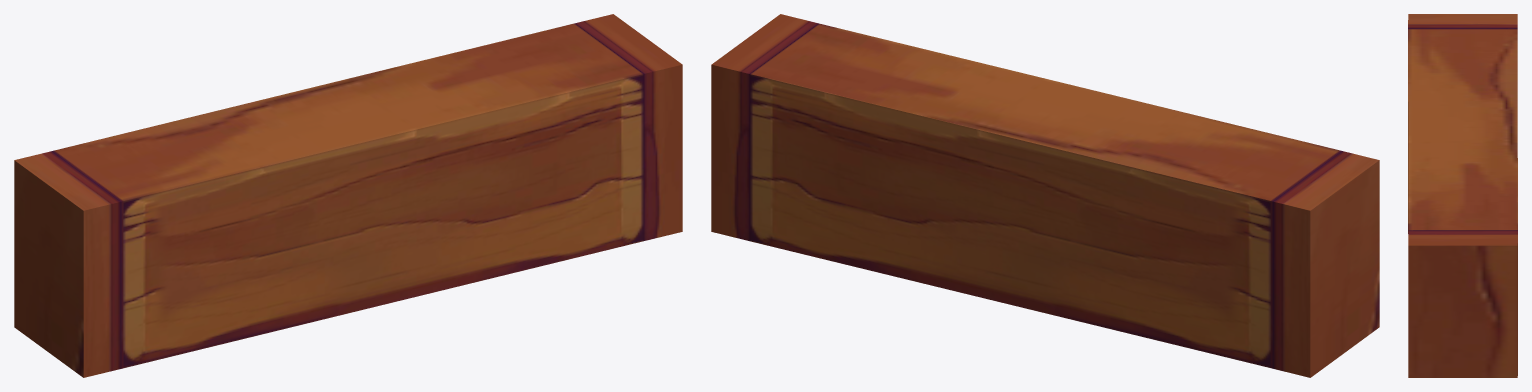
The model's file is fence_wood_02.fbx.
3 views of the same model, side by side, from view 1: azimuth 30°, elevation 25°; view 2: azimuth 150°, elevation 25°; view 3: azimuth 270°, elevation 25° (orthographic). The views are drawn at different scales.
Visible parts, largest first — view 1: fence_wood_02; view 2: fence_wood_02; view 3: fence_wood_02.
Part boxes in pixels (x1,y1,x2,y2): fence_wood_02: (14,14,682,377); fence_wood_02: (711,14,1379,377); fence_wood_02: (1408,14,1517,377).
Bounding box in the file's own units: 150 × 40 × 30.08.
